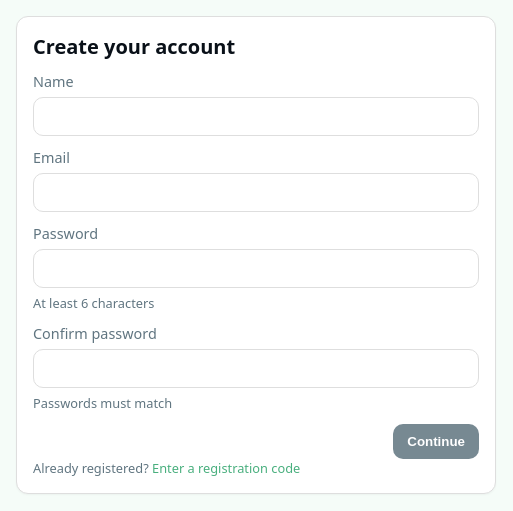
Scenario: RegisterVerify › should transition to step 2 after starting registration
Step 1. Type "John Doe" into the field labelled "Name" → (256, 116), box [33,97,479,136]
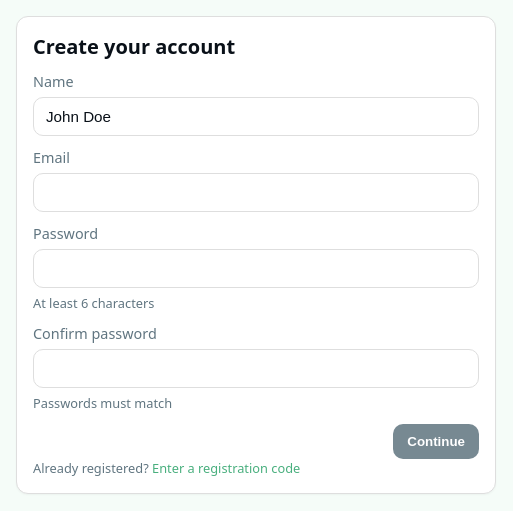
Step 2. Type "john@example.com" into the field labelled "Email" → (256, 192), box [33,173,479,212]
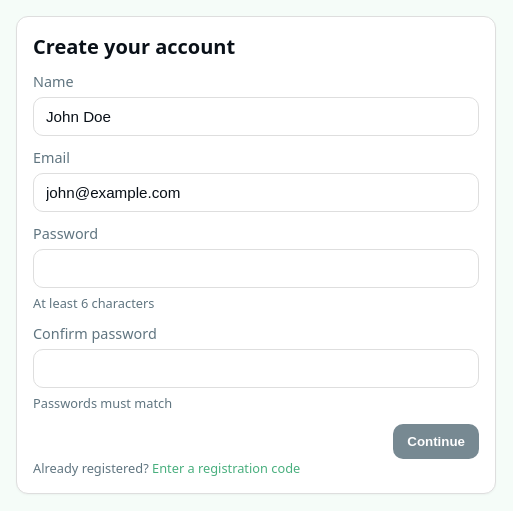
Step 3. Type "password123" into the password field labelled "Password" → (256, 268), box [33,249,479,288]
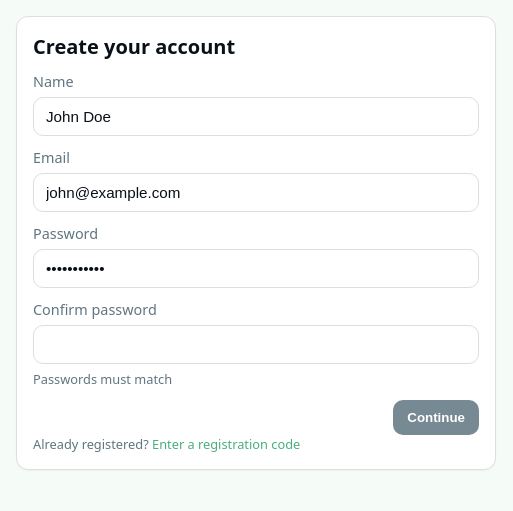
Step 4. Type "password123" into the password field labelled "Confirm password" → (256, 344), box [33,325,479,364]
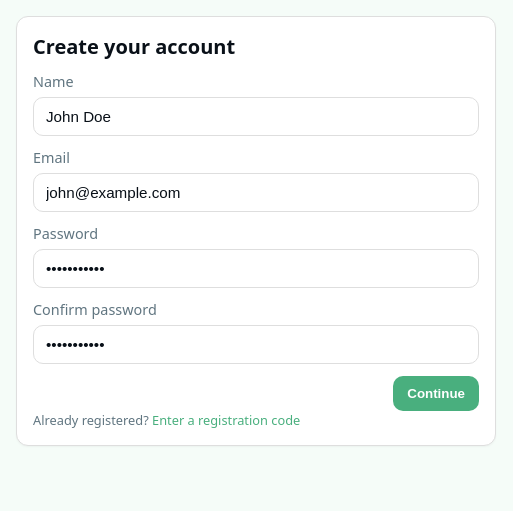
Step 5. Click the button "Continue" → (436, 394), box [393,376,479,411]
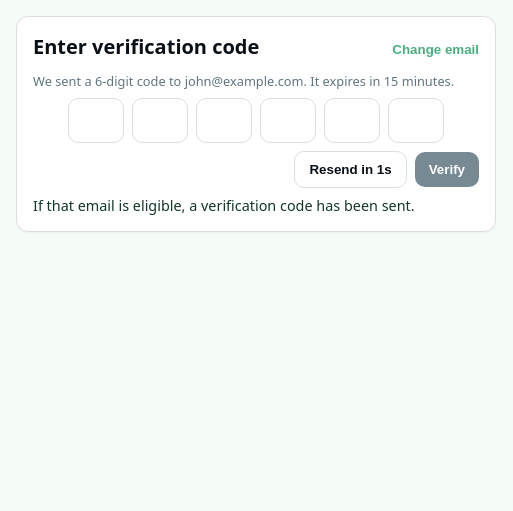
Expected: the heading "Enter verification code" is shown, [33,33,259,60]
